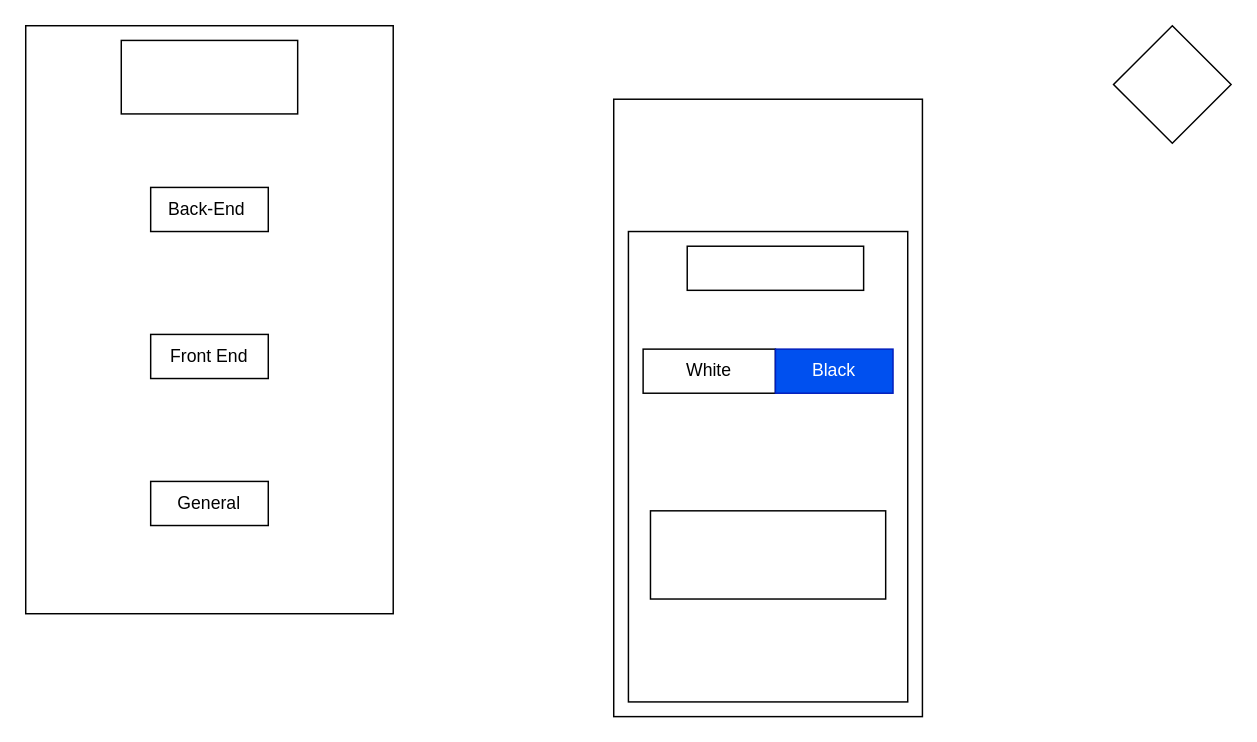
This 1257x742 diagram has some shape labels left out. Here are the shapes that lost their labels. From the top down, the centre of each, then its label:
point (209, 76): Skills
point (775, 267): theme settings
